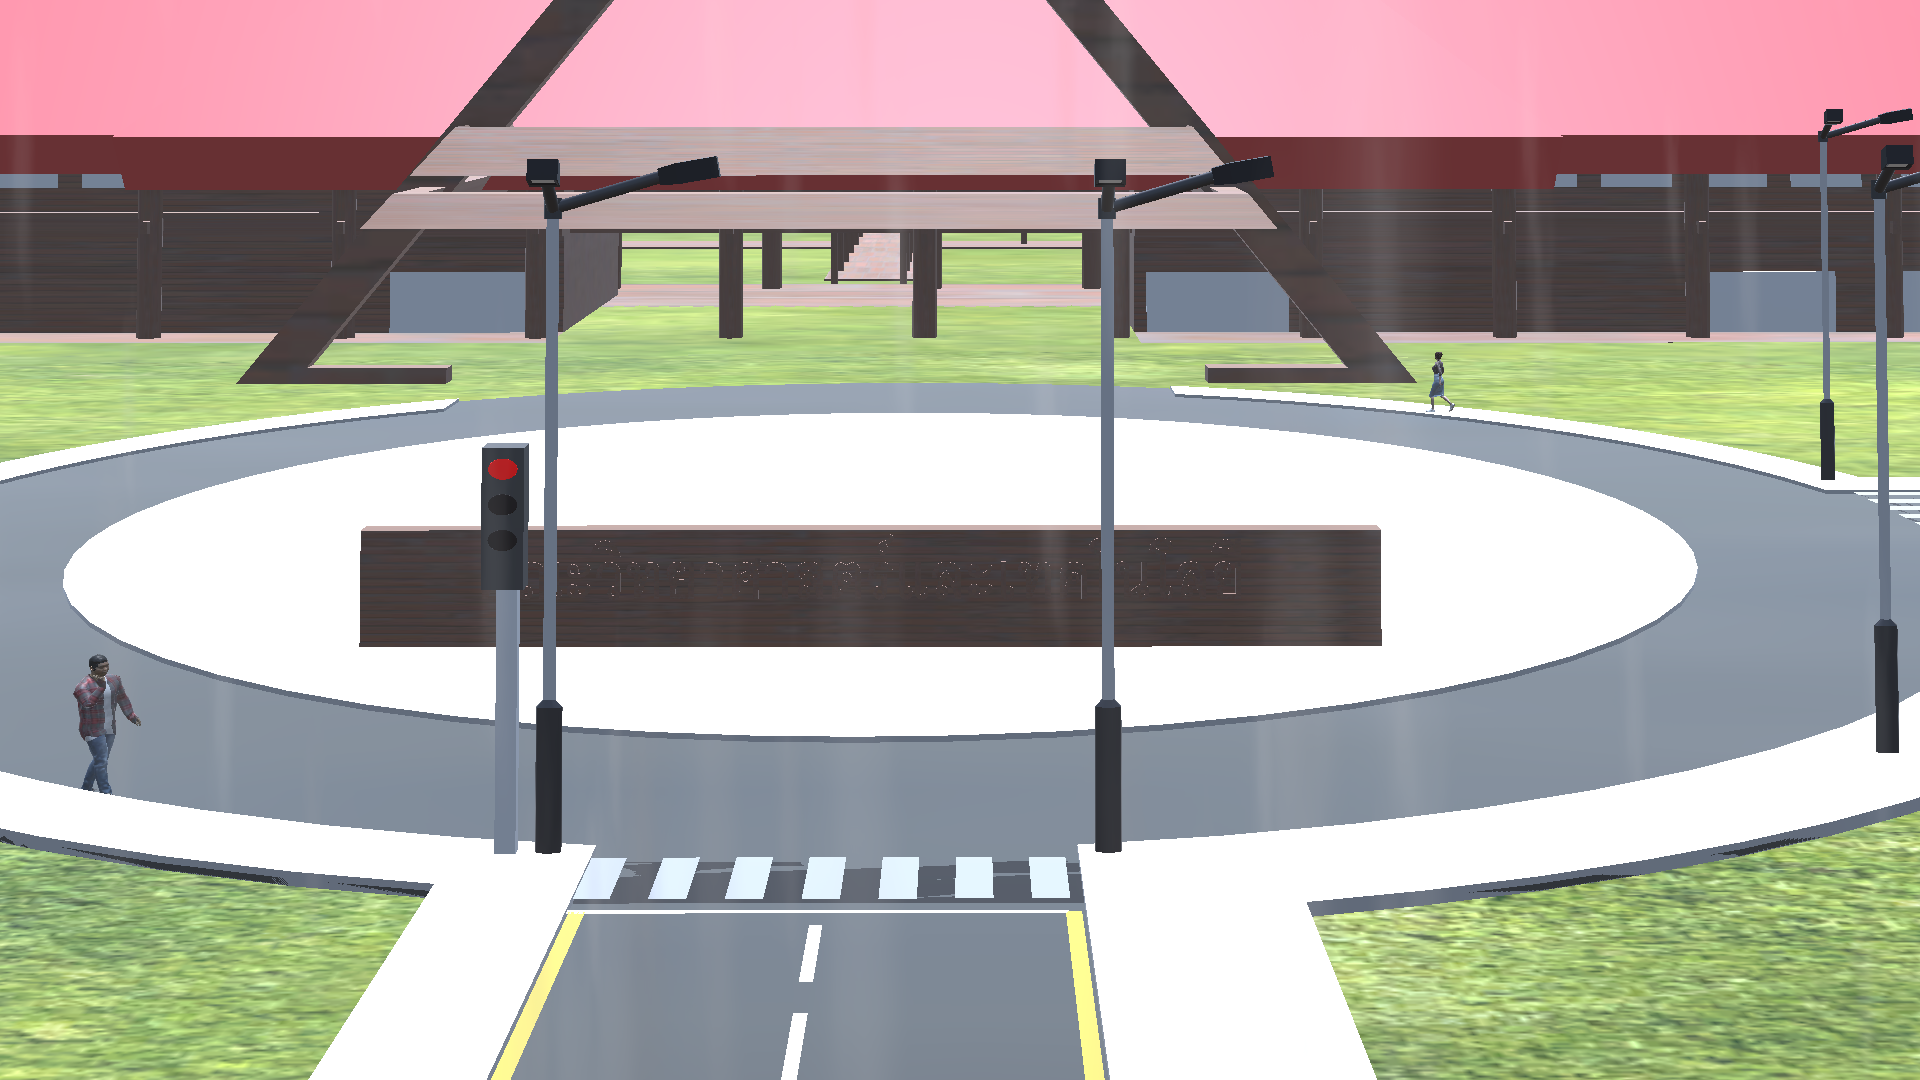pedestrian: (62, 651, 150, 793), (1425, 350, 1459, 418)
